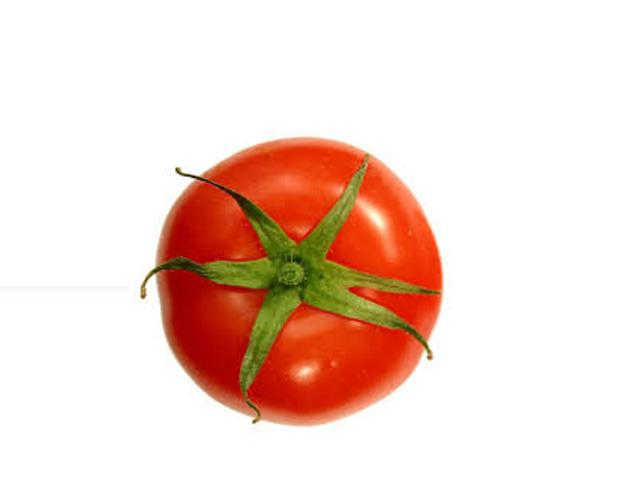tomato: (156, 138, 444, 424)
